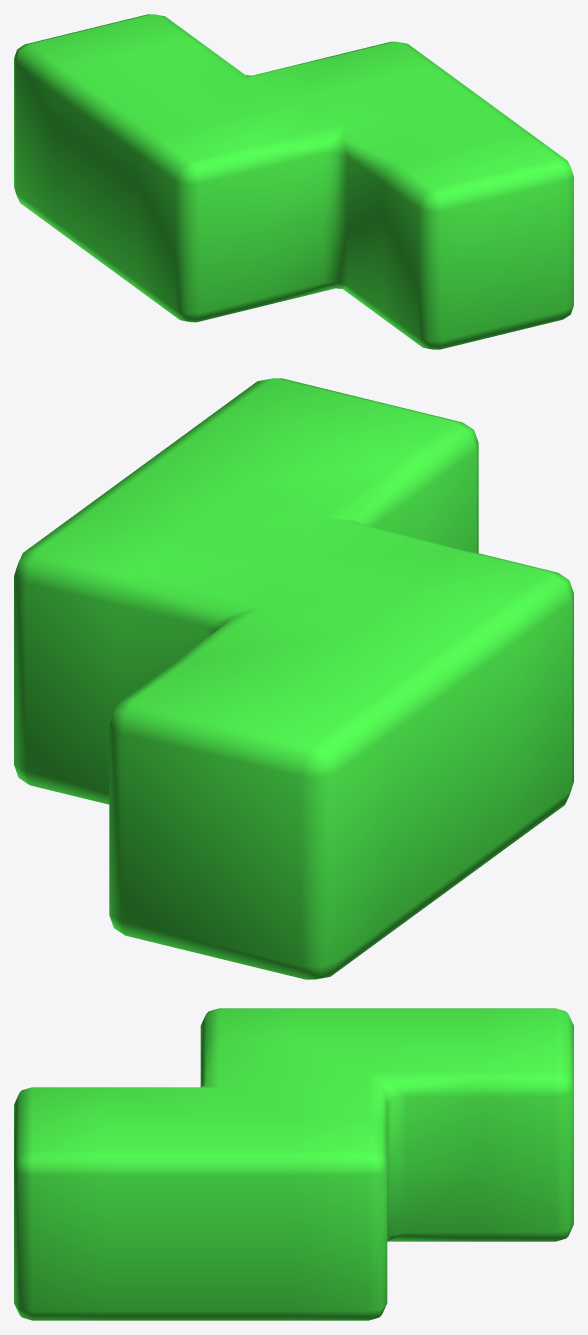
File: tetrisS-glass.obj
3 renders of one model, top to bottom at view 1: azimuth 30°, elevation 25°; view 2: azimuth 150°, elevation 25°; view 3: azimuth 270°, elevation 25°, orthographic. The views are drawn at different scales.
Visible parts, largest first — view 1: Cube; view 2: Cube; view 3: Cube.
Part boxes in pixels (box(x1,y1,x2,y2)): Cube: box(14, 14, 573, 349); Cube: box(14, 378, 573, 979); Cube: box(14, 1008, 573, 1320).
Bounding box in the file's own units: 0.3 × 0.15 × 0.45.
